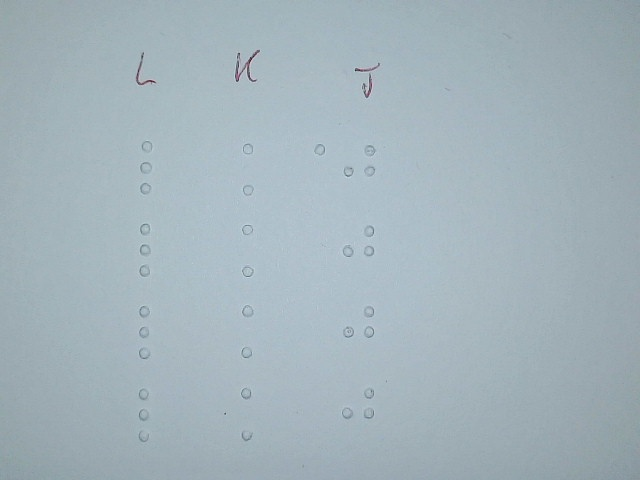J: (340, 134, 379, 196), (339, 217, 378, 279), (339, 295, 378, 357), (339, 378, 378, 440)
K: (231, 137, 279, 201), (233, 219, 281, 283), (231, 300, 279, 364), (231, 380, 279, 444)
L: (131, 136, 179, 200), (130, 218, 178, 282), (128, 299, 176, 363), (128, 382, 176, 446)
